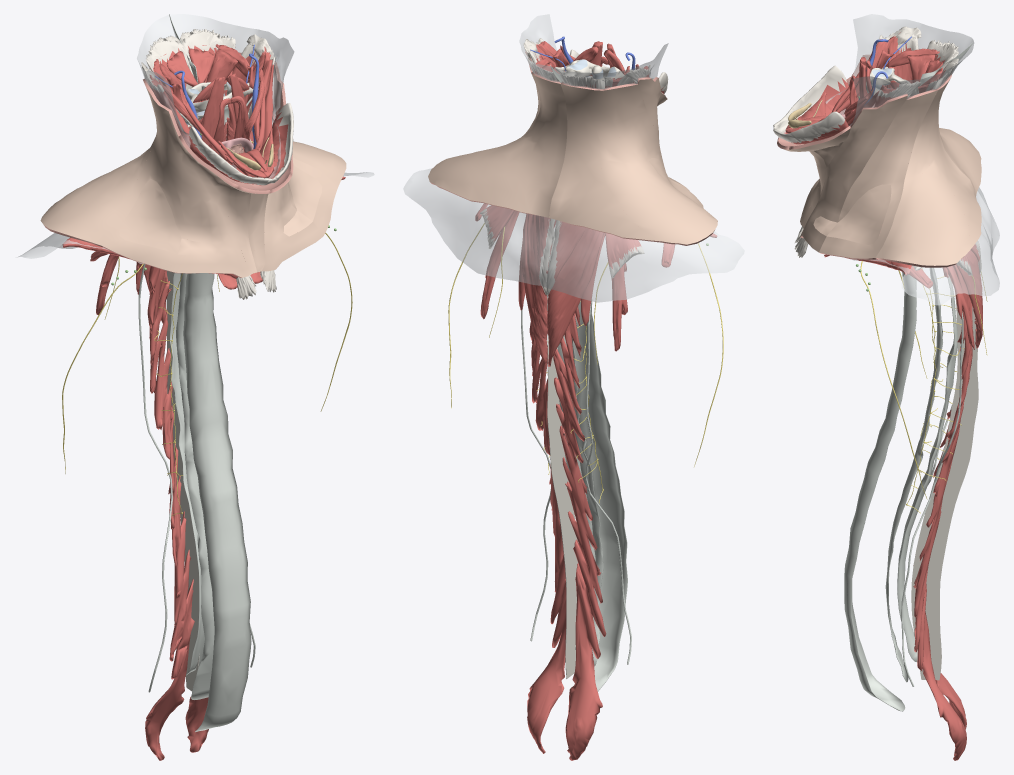
The model's file is neck.glb.
3 renders of one model, left to right at view 1: azimuth 30°, elevation 25°; view 2: azimuth 150°, elevation 25°; view 3: azimuth 270°, elevation 25°, orthographic. The views are drawn at different scales.
Visible parts, largest first — view 1: anterior_longitudinal_ligament, rotatores_r, sternocleidomastoid_region_r, posterior_region_of_neck_r, posterior_longitudinal_ligament, lateral_region_of_neck_r, sternocleidomastoid_region_l, superficial_investing_cervical_fascia_l, greater_supraclavicular_fossa_r, interspinous_ligaments, superficial_investing_cervical_fascia_r, ligamenta_flava (+14 smaller); view 2: posterior_region_of_neck_r, superficial_investing_cervical_fascia_r, superficial_investing_cervical_fascia_l, rotatores_r, posterior_region_of_neck_l, anterior_longitudinal_ligament, rotatores_l, interspinous_ligaments, splenius_colli_muscle_r, lateral_region_of_neck_r, splenius_colli_muscle_l, posterior_longitudinal_ligament (+10 smaller); view 3: posterior_region_of_neck_l, interspinous_ligaments, superficial_investing_cervical_fascia_l, anterior_longitudinal_ligament, lateral_region_of_neck_l, rotatores_l, sternocleidomastoid_region_l, superficial_investing_cervical_fascia_r, ligamenta_flava, posterior_longitudinal_ligament, greater_supraclavicular_fossa_l, platysma_r (+15 smaller).
Boxes of the visible parts, x1=… form: anterior_longitudinal_ligament: x1=183, y1=105, x2=251, y2=731; rotatores_r: x1=145, y1=266, x2=194, y2=760; sternocleidomastoid_region_r: x1=143, y1=78, x2=253, y2=277; posterior_region_of_neck_r: x1=40, y1=137, x2=155, y2=246; posterior_longitudinal_ligament: x1=176, y1=273, x2=214, y2=699; lateral_region_of_neck_r: x1=102, y1=68, x2=184, y2=272; sternocleidomastoid_region_l: x1=262, y1=61, x2=323, y2=271; superficial_investing_cervical_fascia_l: x1=170, y1=14, x2=374, y2=178; greater_supraclavicular_fossa_r: x1=119, y1=178, x2=181, y2=254; interspinous_ligaments: x1=166, y1=271, x2=199, y2=691; superficial_investing_cervical_fascia_r: x1=17, y1=15, x2=236, y2=263; ligamenta_flava: x1=170, y1=273, x2=204, y2=675; posterior_region_of_neck_r: x1=549, y1=81, x2=717, y2=245; superficial_investing_cervical_fascia_r: x1=541, y1=43, x2=744, y2=302; superficial_investing_cervical_fascia_l: x1=403, y1=14, x2=559, y2=285; rotatores_r: x1=553, y1=306, x2=606, y2=760; posterior_region_of_neck_l: x1=428, y1=72, x2=567, y2=217; anterior_longitudinal_ligament: x1=573, y1=76, x2=627, y2=691; rotatores_l: x1=527, y1=220, x2=566, y2=753; interspinous_ligaments: x1=547, y1=220, x2=577, y2=678; splenius_colli_muscle_r: x1=547, y1=228, x2=604, y2=366; lateral_region_of_neck_r: x1=603, y1=82, x2=703, y2=207; splenius_colli_muscle_l: x1=521, y1=73, x2=559, y2=366; posterior_longitudinal_ligament: x1=572, y1=338, x2=603, y2=666; posterior_region_of_neck_l: x1=875, y1=73, x2=981, y2=267; interspinous_ligaments: x1=911, y1=295, x2=978, y2=680; superficial_investing_cervical_fascia_l: x1=849, y1=44, x2=999, y2=305; anterior_longitudinal_ligament: x1=844, y1=271, x2=916, y2=711; lateral_region_of_neck_l: x1=819, y1=89, x2=937, y2=259; rotatores_l: x1=913, y1=296, x2=972, y2=760; sternocleidomastoid_region_l: x1=800, y1=93, x2=907, y2=252; superficial_investing_cervical_fascia_r: x1=784, y1=14, x2=999, y2=252; ligamenta_flava: x1=897, y1=275, x2=957, y2=662; posterior_longitudinal_ligament: x1=885, y1=267, x2=942, y2=682; greater_supraclavicular_fossa_l: x1=827, y1=184, x2=891, y2=244; platysma_r: x1=773, y1=65, x2=849, y2=133.
Size of the model in its own units: 0.3486 by 0.7023 by 0.2032.
